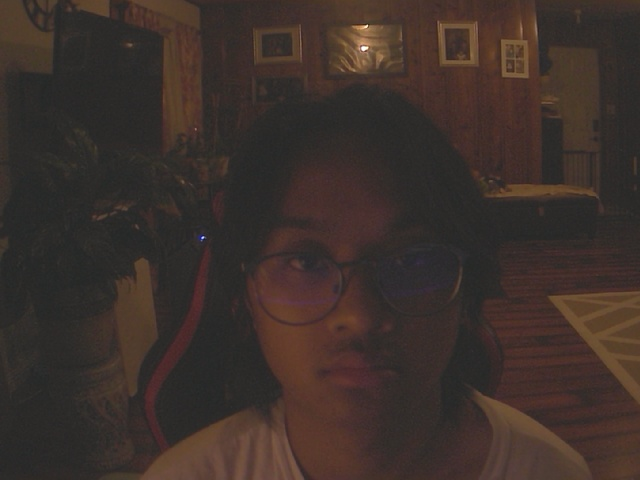neutral: (208, 77, 504, 430)
